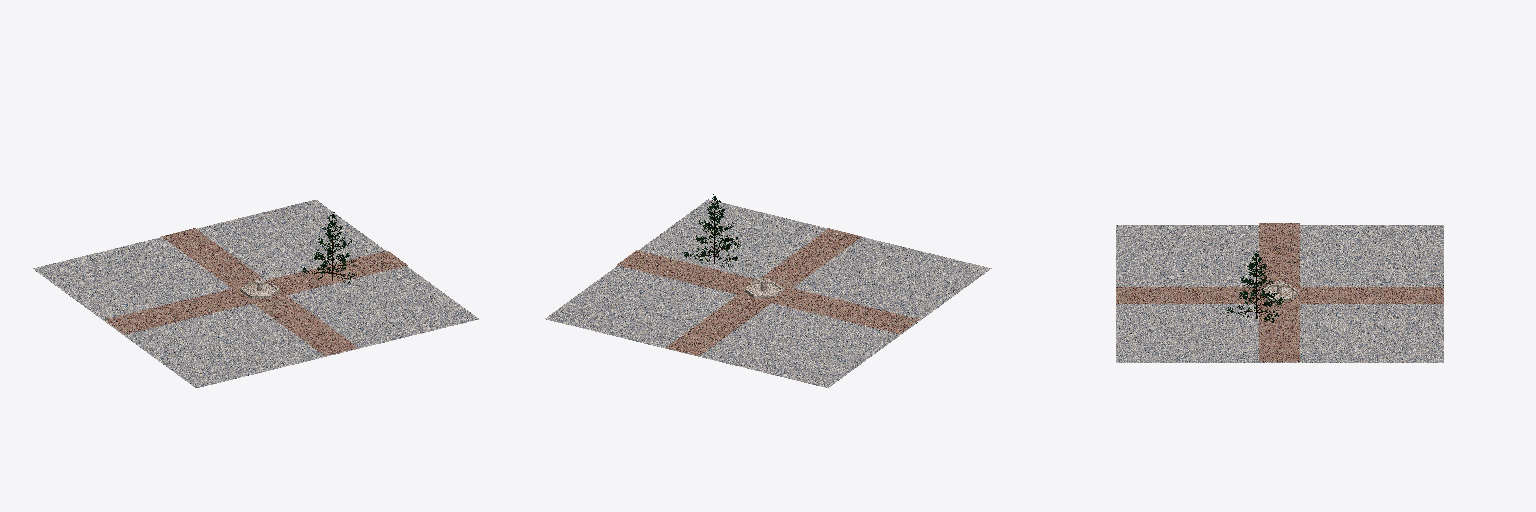
3 renders of one model, left to right at view 1: azimuth 30°, elevation 25°; view 2: azimuth 150°, elevation 25°; view 3: azimuth 270°, elevation 25°, orthographic.
Visible parts, largest first — view 1: Plane, Plane.001, Plane.002, PINC2_LEAF, Layer0_001; view 2: Plane, Plane.001, Plane.002, PINC2_LEAF, Layer0_001; view 3: Plane, Plane.001, Plane.002, PINC2_LEAF.
Part boxes in pixels (bbox=[...]): Plane: bbox=[33, 200, 478, 387]; Plane.001: bbox=[105, 251, 407, 334]; Plane.002: bbox=[161, 228, 357, 355]; PINC2_LEAF: bbox=[303, 212, 355, 283]; Layer0_001: bbox=[241, 277, 279, 298]; Plane: bbox=[545, 199, 991, 387]; Plane.001: bbox=[617, 250, 919, 333]; Plane.002: bbox=[666, 228, 861, 355]; PINC2_LEAF: bbox=[682, 194, 740, 266]; Layer0_001: bbox=[745, 277, 783, 297]; Plane: bbox=[1116, 225, 1443, 362]; Plane.001: bbox=[1259, 223, 1299, 361]; Plane.002: bbox=[1116, 287, 1443, 303]; PINC2_LEAF: bbox=[1226, 251, 1284, 322].
Bounding box in the file's own units: 200 × 51.03 × 200.
Materials: 6 (3 with a texture image).